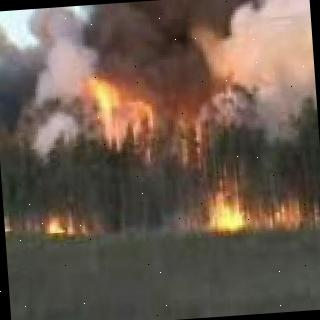fire: (207, 166, 311, 237), (79, 71, 162, 149), (42, 203, 101, 236)
